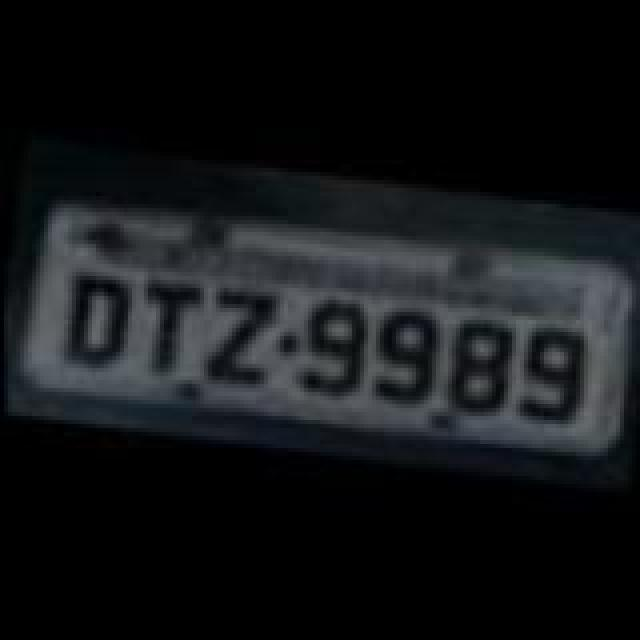8: (436, 314, 516, 422)
9: (360, 298, 448, 410), (510, 320, 590, 428), (292, 296, 372, 400)
D: (60, 268, 140, 376)
T: (128, 274, 200, 382)
Z: (194, 286, 278, 394)
